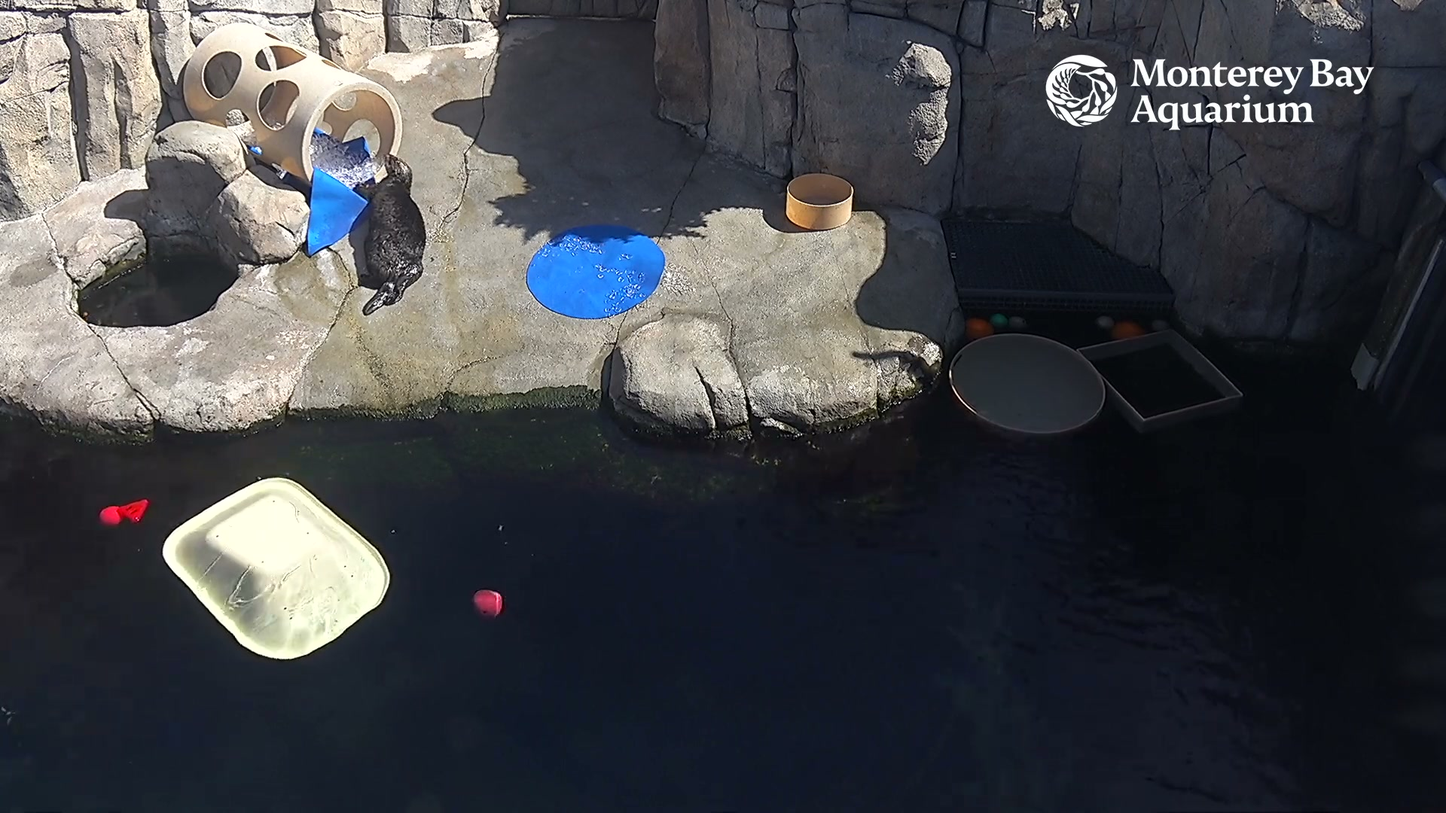Southern Sea Otter: (362, 146, 427, 321)
